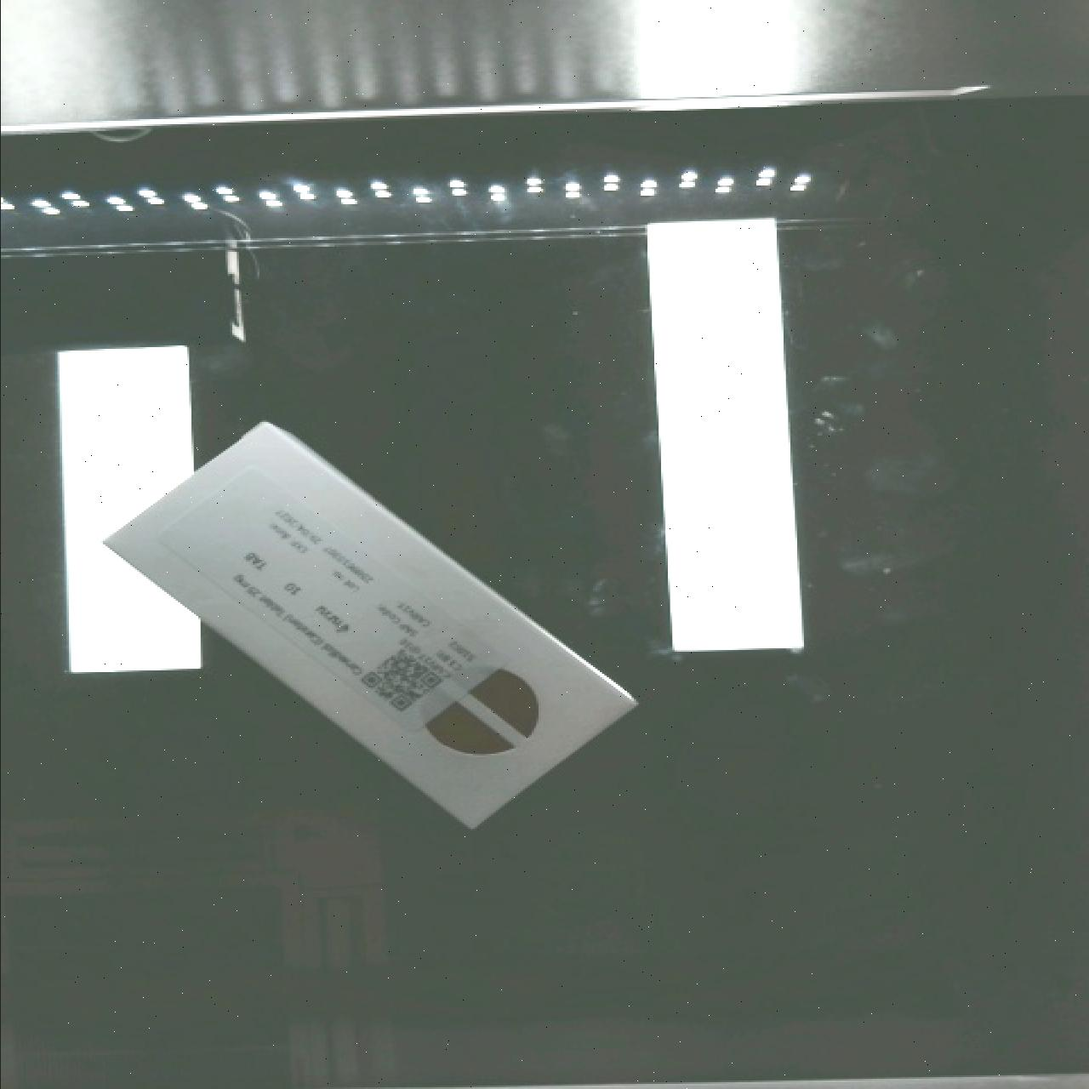qr_code: (349, 630, 457, 736)
